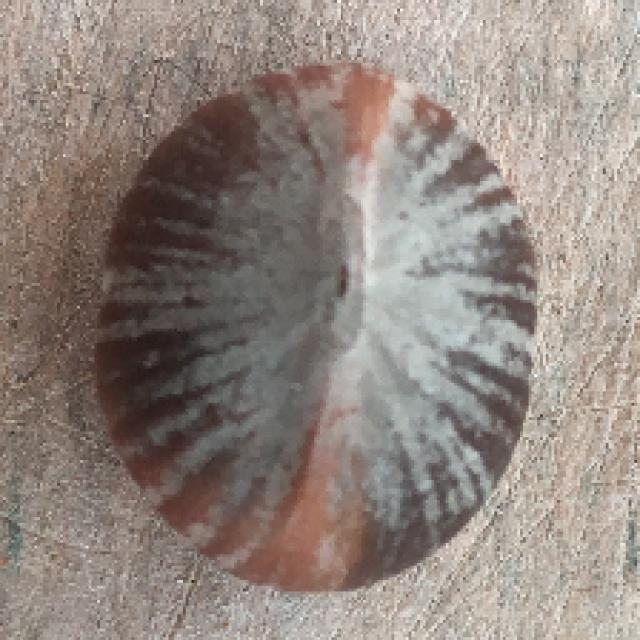damagedHazelnut: (85, 53, 548, 602)
